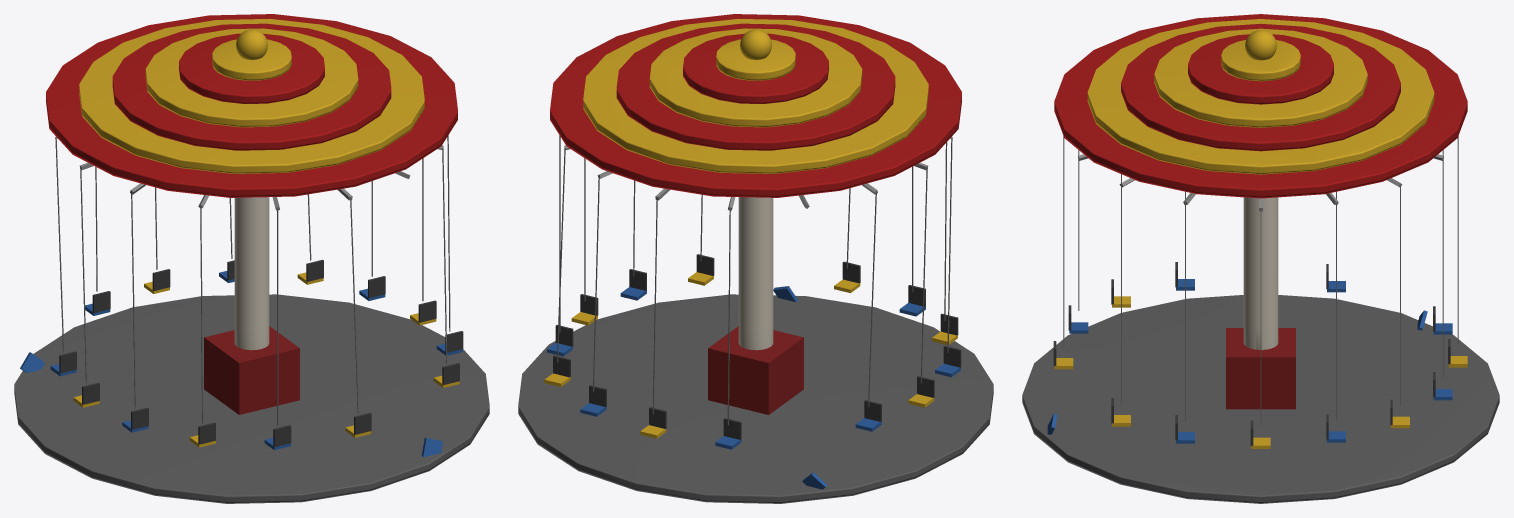
The model's file is chapeu_mexicano.glb.
3 renders of one model, left to right at view 1: azimuth 30°, elevation 25°; view 2: azimuth 150°, elevation 25°; view 3: azimuth 270°, elevation 25°, orthographic.
Visible parts, largest first — view 1: obj_374; view 2: obj_374; view 3: obj_374.
Boxes of the visible parts, left/top/right/bottom form: obj_374: left=14, top=14, right=489, bottom=503; obj_374: left=518, top=14, right=993, bottom=503; obj_374: left=1022, top=14, right=1499, bottom=503.
Bounding box in the file's own units: 15 × 12.9 × 15.
1 material, 1 textured.
